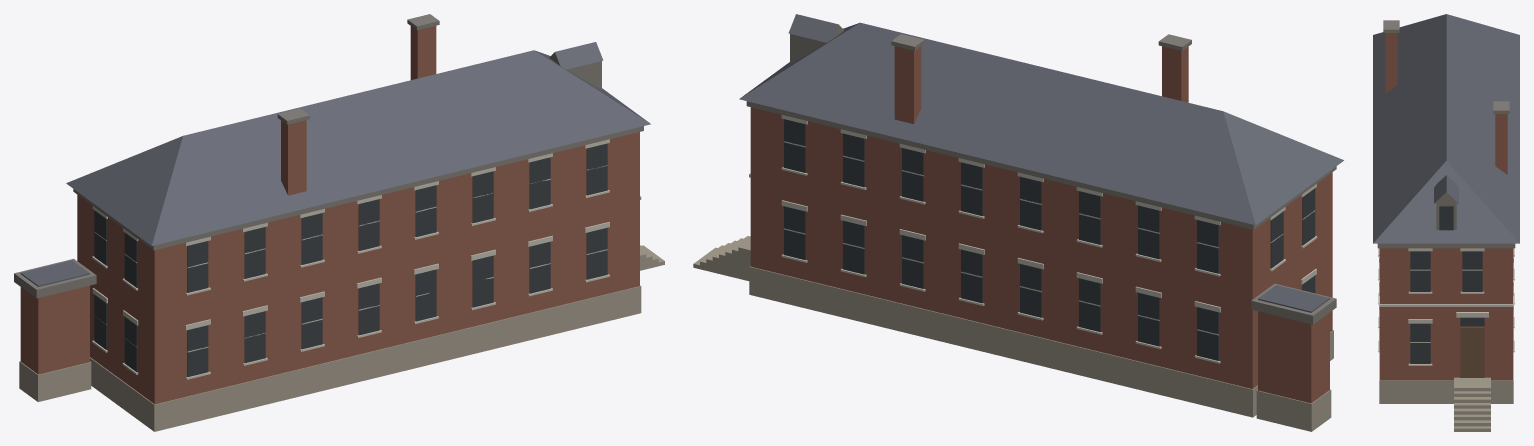
The model's file is house_1616_prairie__draft_1904.glb.
The picture shows the model from 3 angles, left to right: view 1: azimuth 30°, elevation 25°; view 2: azimuth 150°, elevation 25°; view 3: azimuth 270°, elevation 25°; orthographic projection. The views are drawn at different scales.
Parts seen in each view (by area): view 1: house_1616_prairie__draft_1904; view 2: house_1616_prairie__draft_1904; view 3: house_1616_prairie__draft_1904.
Boxes of the visible parts, bbox=[...] form: house_1616_prairie__draft_1904: bbox=[14, 14, 664, 431]; house_1616_prairie__draft_1904: bbox=[693, 14, 1343, 431]; house_1616_prairie__draft_1904: bbox=[1373, 14, 1519, 431].
Size of the model in its own units: 29.75 by 12.79 by 7.2.
